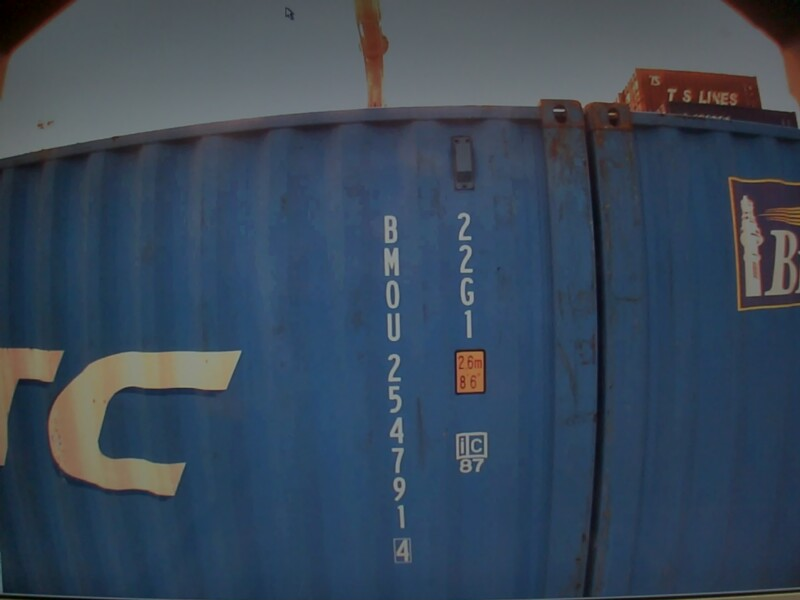container_no_door: (1, 92, 599, 600)
